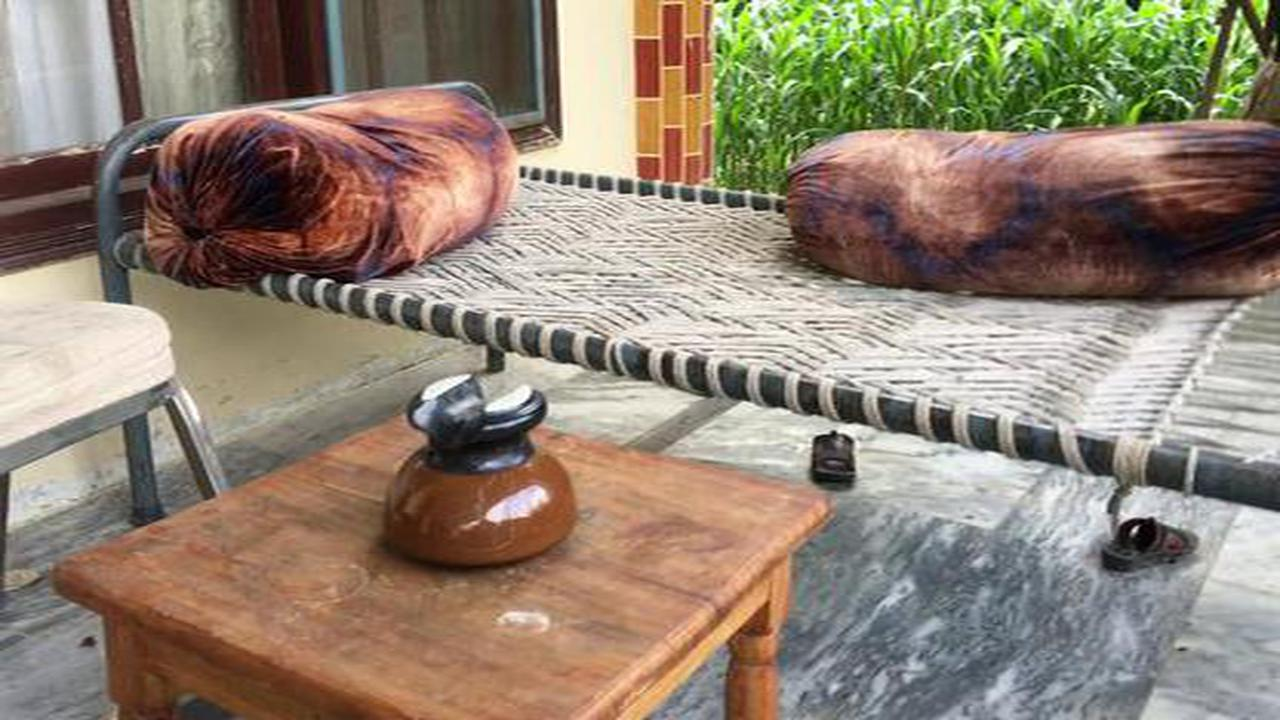insulator_pin: (364, 362, 591, 568)
